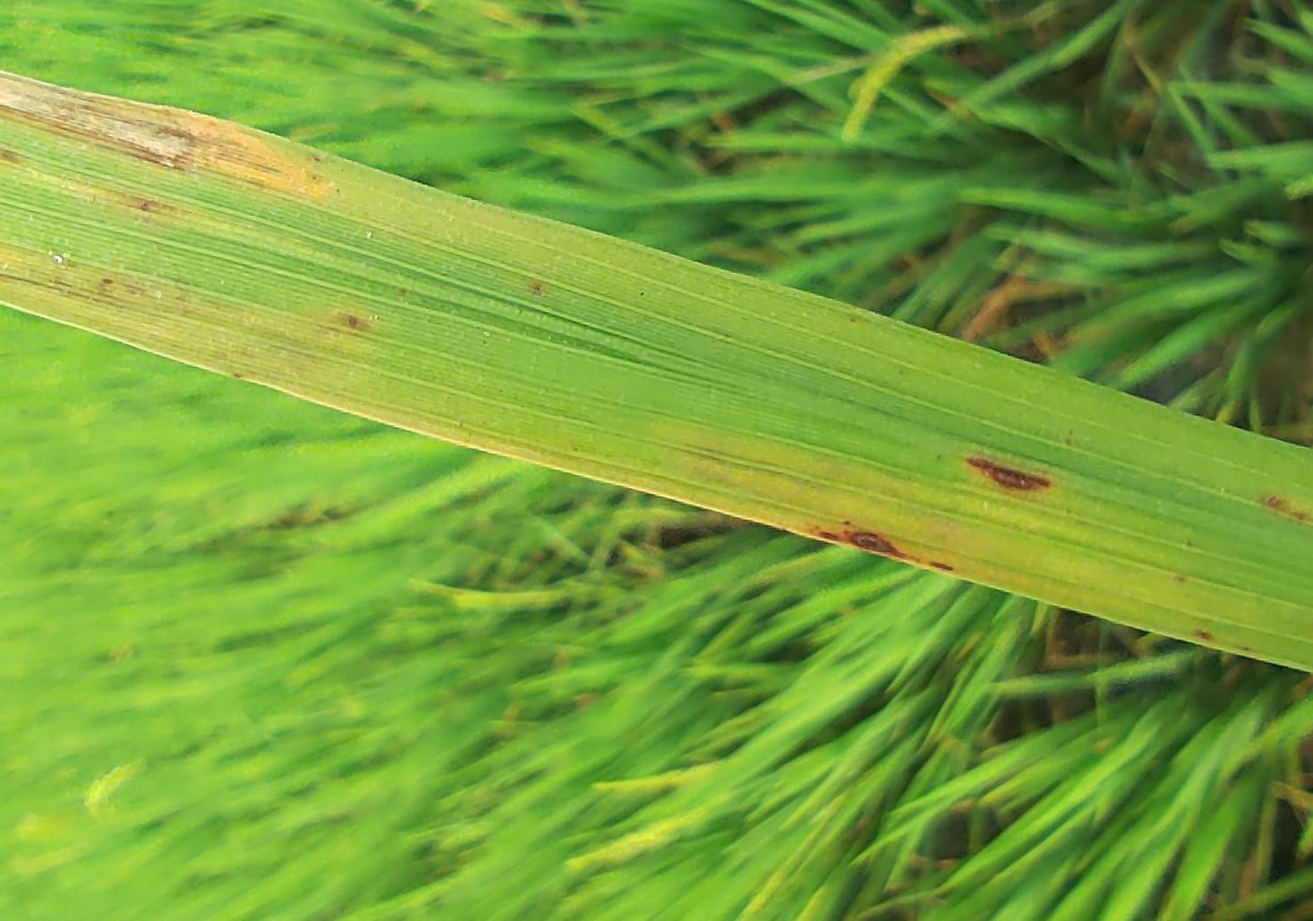LEAF: (0, 72, 1312, 670)
LEAF BLAST: (967, 457, 1052, 490), (848, 532, 908, 558)
